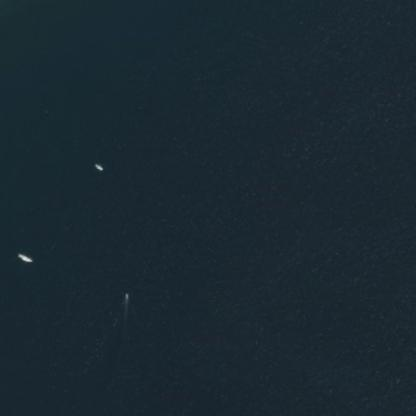ship: (13, 246, 37, 265), (88, 157, 109, 176), (119, 288, 132, 302)
